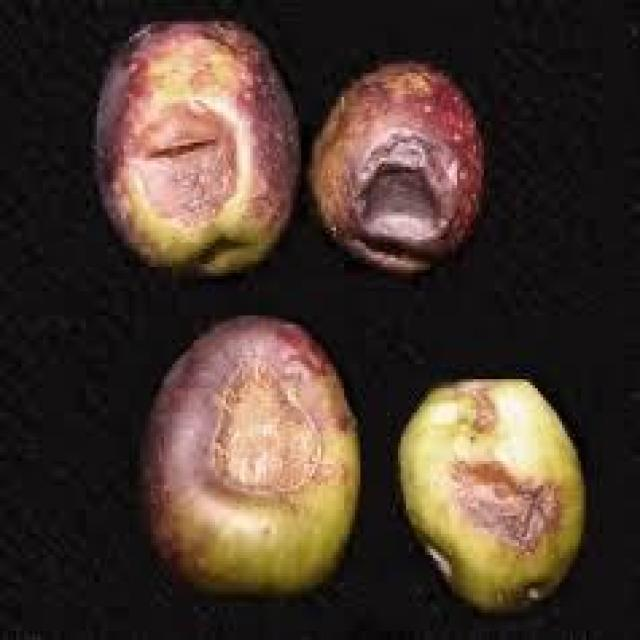Anthracnose: (140, 316, 358, 592), (96, 24, 298, 273), (401, 382, 581, 610), (309, 64, 482, 273)
